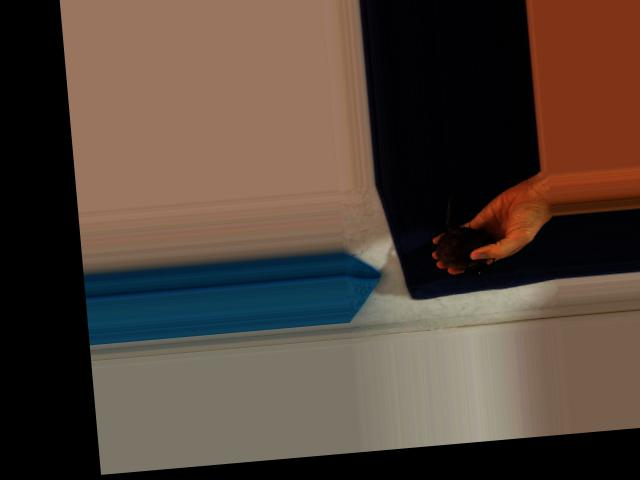beet: (431, 191, 496, 278)
